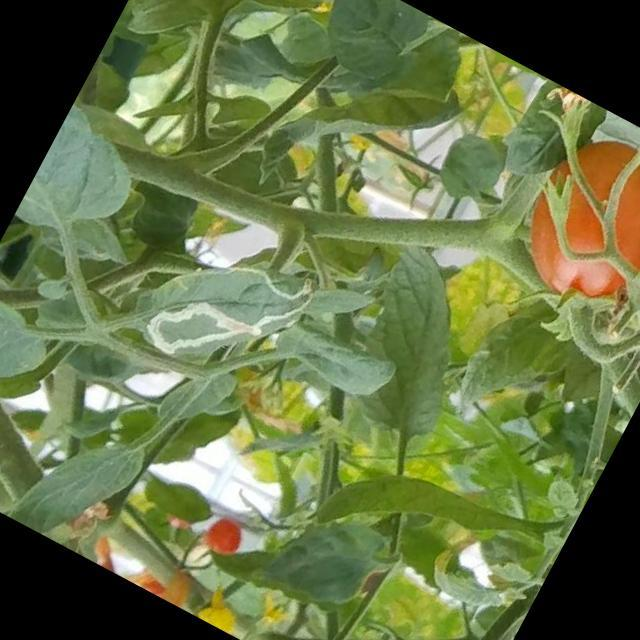Tomato target spot leaf: (115, 205, 324, 408)
